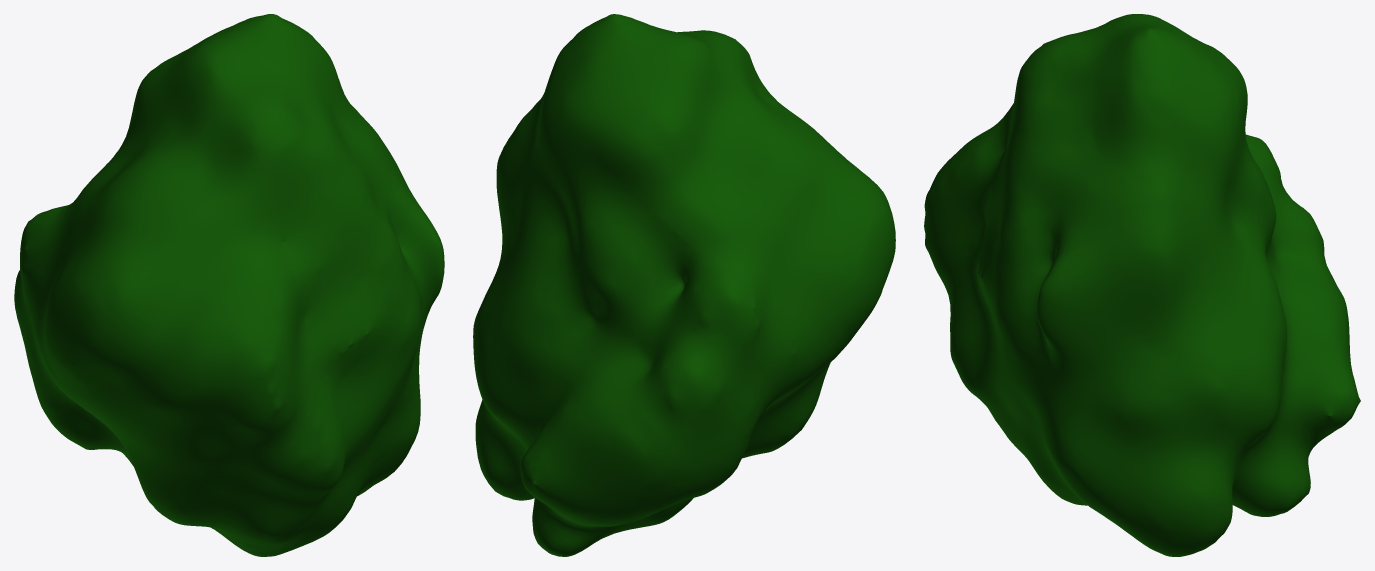
File: Lesion.obj
The picture shows the model from 3 angles, left to right: view 1: azimuth 30°, elevation 25°; view 2: azimuth 150°, elevation 25°; view 3: azimuth 270°, elevation 25°; orthographic projection. The views are drawn at different scales.
Parts seen in each view (by area): view 1: grp1; view 2: grp1; view 3: grp1.
Boxes of the visible parts, bbox=[...] form: grp1: bbox=[14, 14, 444, 556]; grp1: bbox=[473, 14, 895, 556]; grp1: bbox=[924, 14, 1360, 556].
Size of the model in its own units: 42.4 by 56.91 by 46.07.
